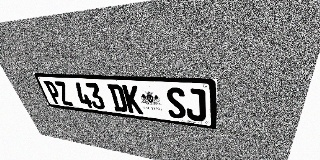3: (85, 83, 106, 110)
4: (73, 82, 94, 108)
D: (107, 84, 128, 112)
J: (185, 88, 206, 122)
K: (122, 85, 143, 114)
P: (43, 80, 64, 105)
S: (165, 87, 186, 119)
Z: (53, 81, 74, 106)
